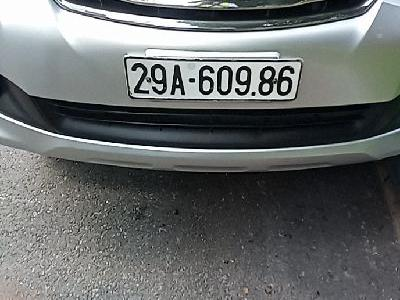car: (124, 53, 304, 103)
